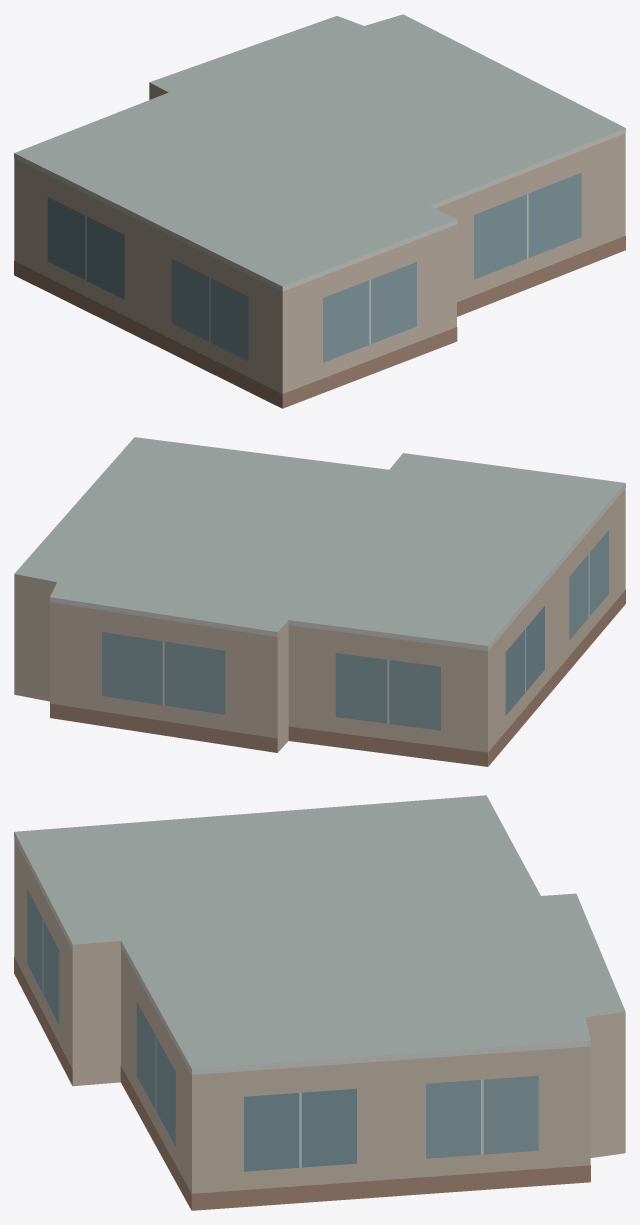
Rendered from survey-upis-32606817.glb.
The picture shows the model from 3 angles, top to bottom: view 1: azimuth 30°, elevation 25°; view 2: azimuth 150°, elevation 25°; view 3: azimuth 270°, elevation 25°; orthographic projection. The views are drawn at different scales.
Visible parts, largest first — view 1: survey-upis-32606817.tmp; view 2: survey-upis-32606817.tmp; view 3: survey-upis-32606817.tmp.
Part boxes in pixels (x1,y1,x2,y2): survey-upis-32606817.tmp: [14, 14, 625, 408]; survey-upis-32606817.tmp: [14, 437, 625, 766]; survey-upis-32606817.tmp: [14, 795, 625, 1210].
Bounding box in the file's own units: 12.68 × 3.05 × 11.96.
